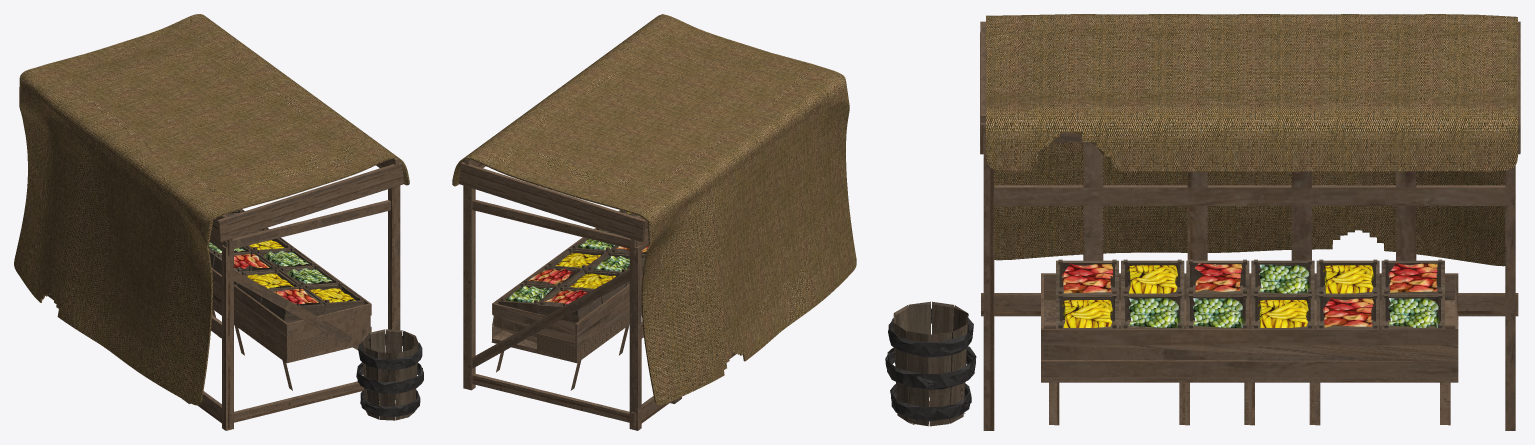
The model's file is stall.glb.
The picture shows the model from 3 angles, left to right: view 1: azimuth 30°, elevation 25°; view 2: azimuth 150°, elevation 25°; view 3: azimuth 270°, elevation 25°; orthographic projection. The views are drawn at different scales.
Visible parts, largest first — view 1: Stall_Fabric 22_0, Stall_Dirty Wood Planks_0, Barrel_2_Chestnut fine wood texture_0, Barrel_2_Dark iron_0, Food_Bananas_0, Food_Grapes_0, Food_Apples_0; view 2: Stall_Fabric 22_0, Stall_Dirty Wood Planks_0, Barrel_2_Chestnut fine wood texture_0, Food_Grapes_0, Food_Bananas_0, Food_Apples_0; view 3: Stall_Fabric 22_0, Stall_Dirty Wood Planks_0, Barrel_2_Chestnut fine wood texture_0, Food_Grapes_0, Food_Bananas_0, Food_Apples_0, Barrel_2_Dark iron_0.
Part boxes in pixels (x1=…): Stall_Fabric 22_0: x1=14, y1=14, x2=409, y2=405; Stall_Dirty Wood Planks_0: x1=47, y1=158, x2=403, y2=430; Barrel_2_Chestnut fine wood texture_0: x1=208, y1=209, x2=418, y2=420; Barrel_2_Dark iron_0: x1=356, y1=334, x2=423, y2=416; Food_Bananas_0: x1=246, y1=240, x2=355, y2=302; Food_Grapes_0: x1=208, y1=211, x2=332, y2=283; Food_Apples_0: x1=234, y1=254, x2=318, y2=303; Stall_Fabric 22_0: x1=452, y1=14, x2=856, y2=405; Stall_Dirty Wood Planks_0: x1=459, y1=14, x2=736, y2=430; Barrel_2_Chestnut fine wood texture_0: x1=498, y1=210, x2=646, y2=322; Food_Grapes_0: x1=506, y1=229, x2=629, y2=302; Food_Bananas_0: x1=556, y1=212, x2=630, y2=288; Food_Apples_0: x1=528, y1=246, x2=648, y2=304; Stall_Fabric 22_0: x1=986, y1=14, x2=1517, y2=266; Stall_Dirty Wood Planks_0: x1=980, y1=21, x2=1520, y2=430; Barrel_2_Chestnut fine wood texture_0: x1=893, y1=259, x2=1444, y2=426; Food_Grapes_0: x1=1129, y1=264, x2=1439, y2=327; Food_Bananas_0: x1=1061, y1=265, x2=1373, y2=327; Food_Apples_0: x1=1062, y1=263, x2=1437, y2=327; Barrel_2_Dark iron_0: x1=885, y1=308, x2=976, y2=421.
Size of the model in its own units: 2.73 by 2.68 by 4.87.
Materials: 7 (7 with a texture image).
